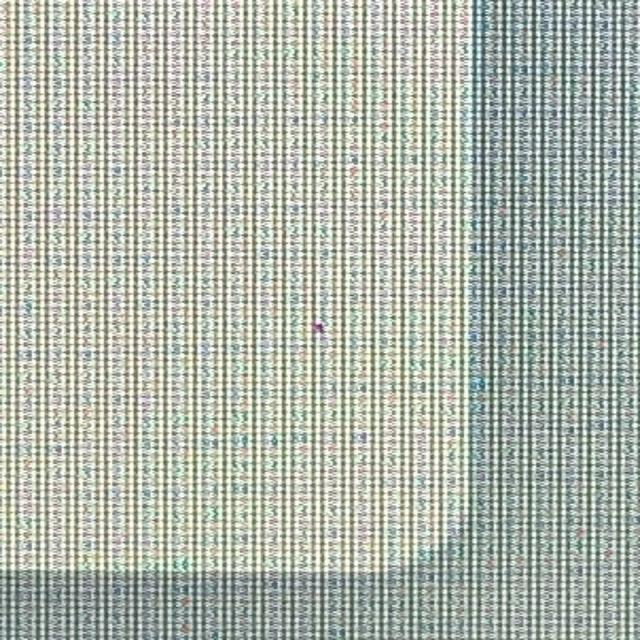Dead pixel: (309, 322, 326, 332)
